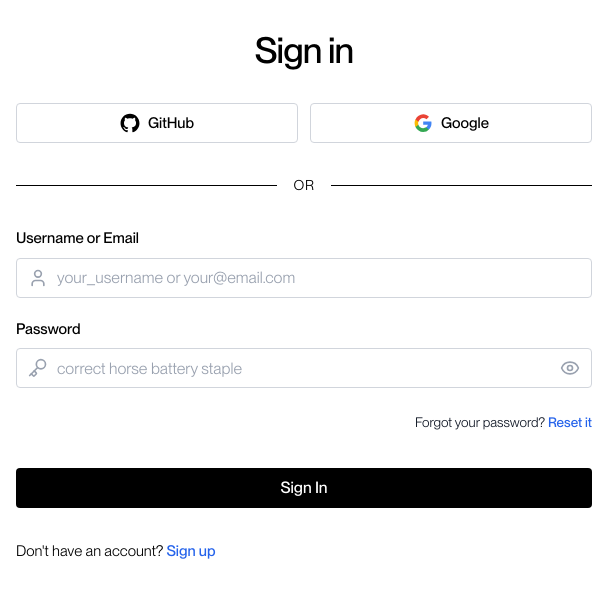
it: Login Component › displays error on failed login
Step 1. Type "wronguser" into the field with test id "username-input" → (304, 278), box [16,258,592,298]
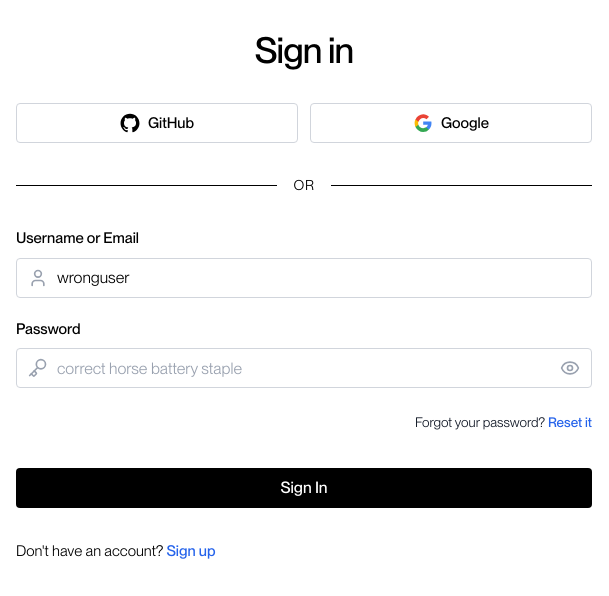
Step 2. Type "wrongpass" into the password field with test id "password-input" → (304, 368), box [16,348,592,388]
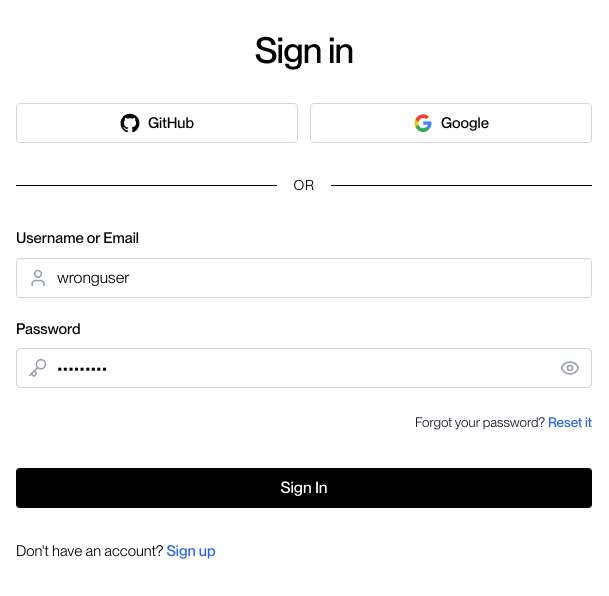
Step 3. Click the button with test id "login-button" → (304, 488), box [16,468,592,508]
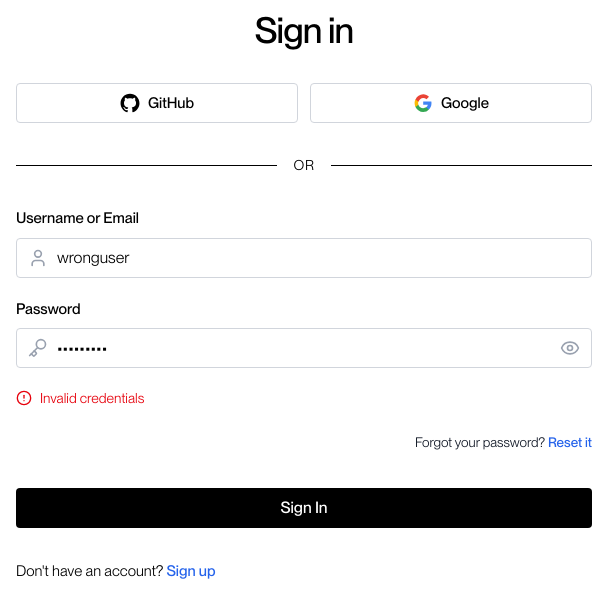
Result: the text "Invalid credentials" is shown at [40,388,144,408]
